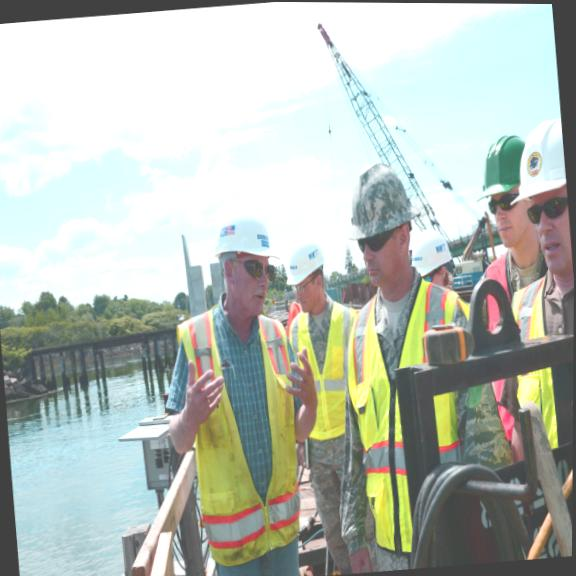safety_vest: (172, 299, 311, 552), (341, 274, 483, 521), (492, 258, 574, 488), (280, 294, 372, 464)
